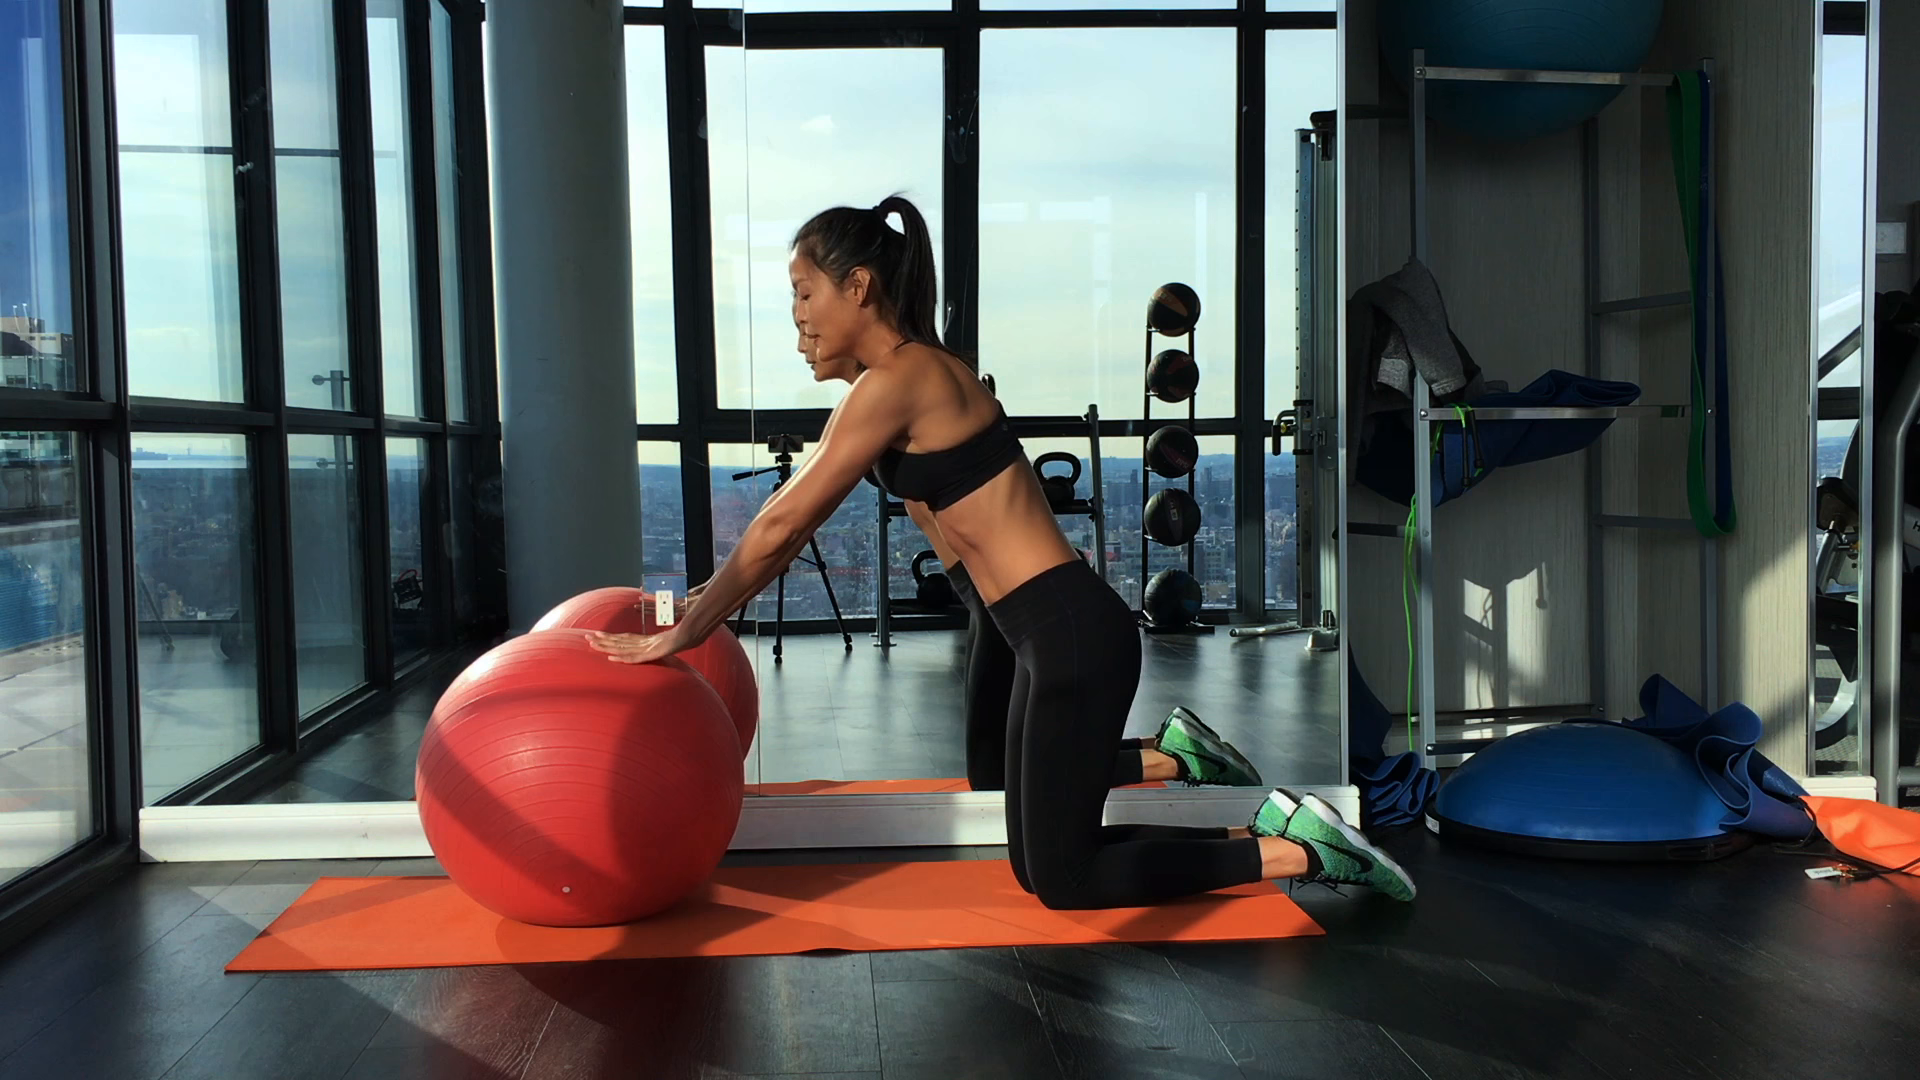yogaball: (406, 626, 749, 935)
